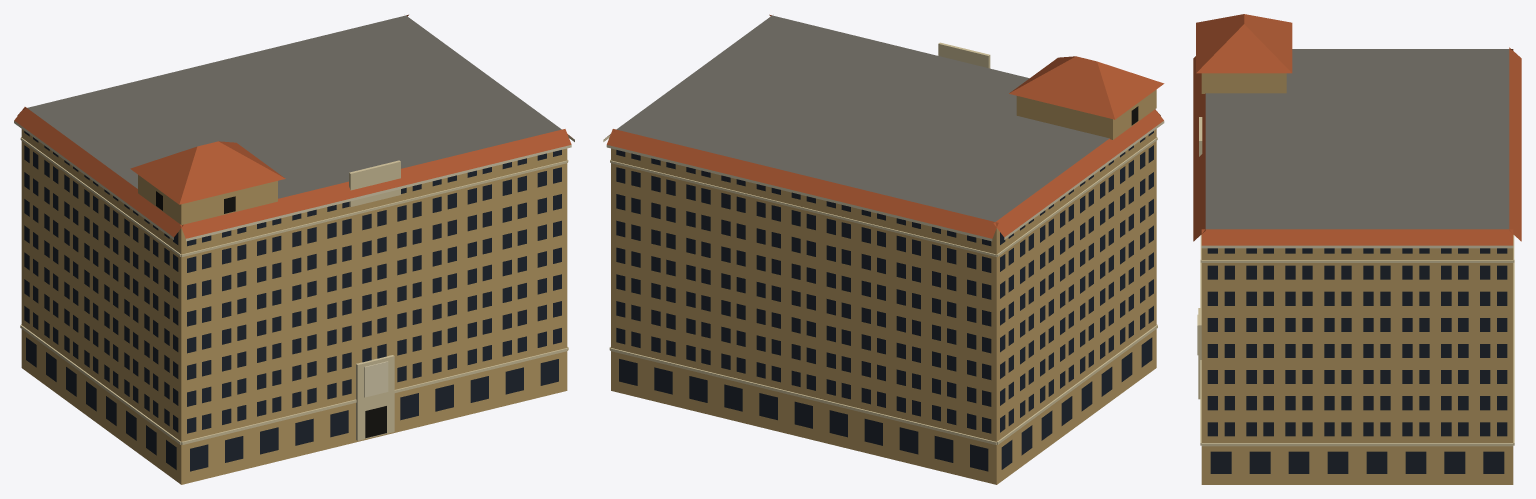
Rendered from albert-pike-hotel.glb.
3 renders of one model, left to right at view 1: azimuth 30°, elevation 25°; view 2: azimuth 150°, elevation 25°; view 3: azimuth 270°, elevation 25°, orthographic. The views are drawn at different scales.
Parts seen in each view (by area): view 1: albert_brick, albert_roof, albert_glass, albert_tile, albert_stone, albert_trim, albert_shadow; view 2: albert_brick, albert_roof, albert_glass, albert_tile, albert_stone, albert_trim; view 3: albert_brick, albert_roof, albert_glass, albert_tile, albert_stone, albert_trim.
Boxes of the visible parts, x1,y1,x2,y2 form: albert_brick: (21, 129, 567, 484); albert_roof: (27, 15, 561, 198); albert_glass: (24, 131, 561, 471); albert_tile: (14, 14, 571, 238); albert_stone: (20, 137, 568, 444); albert_trim: (14, 115, 574, 397); albert_shadow: (156, 191, 386, 438); albert_brick: (611, 89, 1156, 484); albert_roof: (616, 15, 1109, 221); albert_glass: (616, 131, 1153, 471); albert_tile: (607, 14, 1164, 238); albert_stone: (609, 42, 1157, 444); albert_trim: (603, 115, 1164, 241); albert_brick: (1201, 73, 1513, 484); albert_roof: (1205, 49, 1509, 229); albert_glass: (1207, 248, 1507, 473); albert_tile: (1193, 14, 1521, 245); albert_stone: (1198, 117, 1514, 446); albert_trim: (1197, 245, 1513, 355).
Size of the model in its own units: 47.8 by 35.7 by 34.8.
